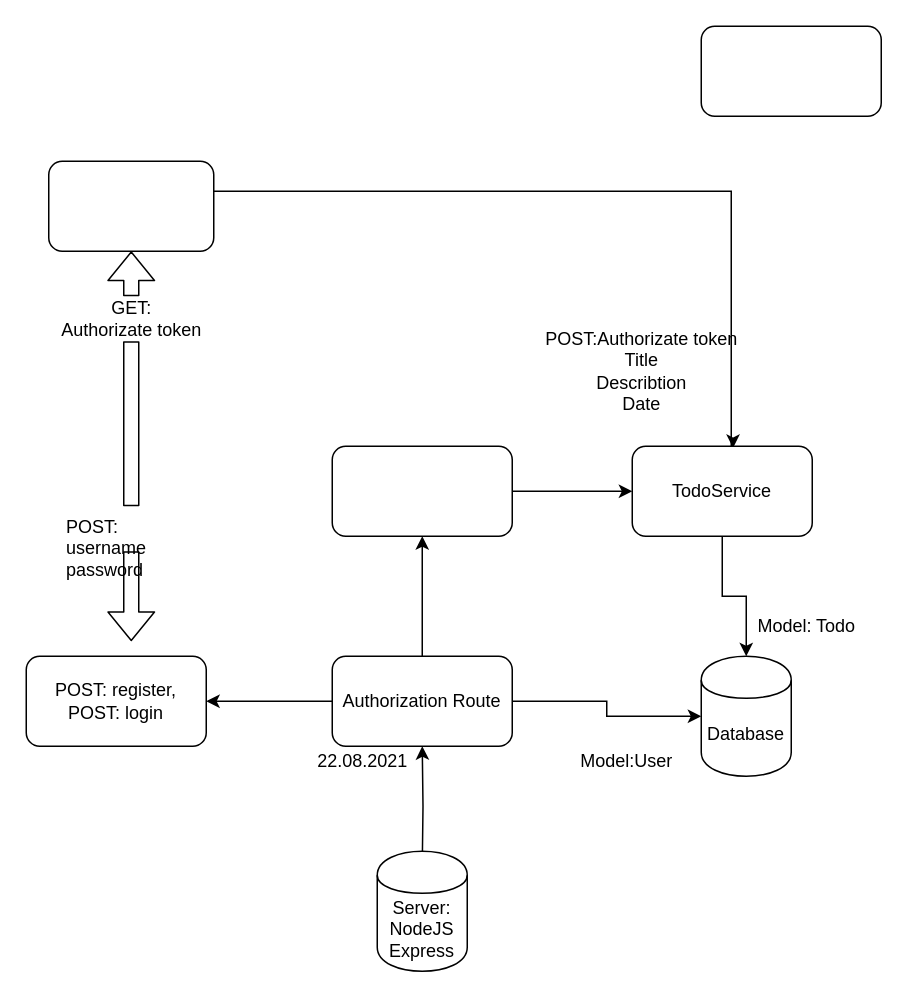
The diagram is 908 pixels wide and 998 high, and some of its shapes have lost their labels. The shapes that lost their labels are listed below. From the top down, each one's centre as x and y in pixels, then its label:
[790,70]: Planning
[130,205]: WEB
[421,490]: Authorization MiddleWare
